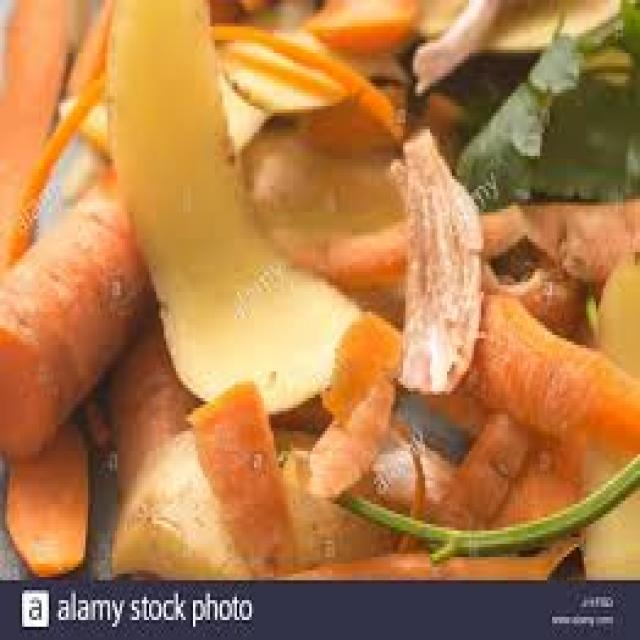Organik: (105, 0, 370, 416), (123, 383, 390, 593), (369, 401, 640, 584), (435, 0, 640, 206), (0, 163, 150, 432), (226, 95, 430, 281), (462, 267, 640, 461), (7, 0, 106, 257), (384, 148, 482, 406), (18, 389, 113, 592)
